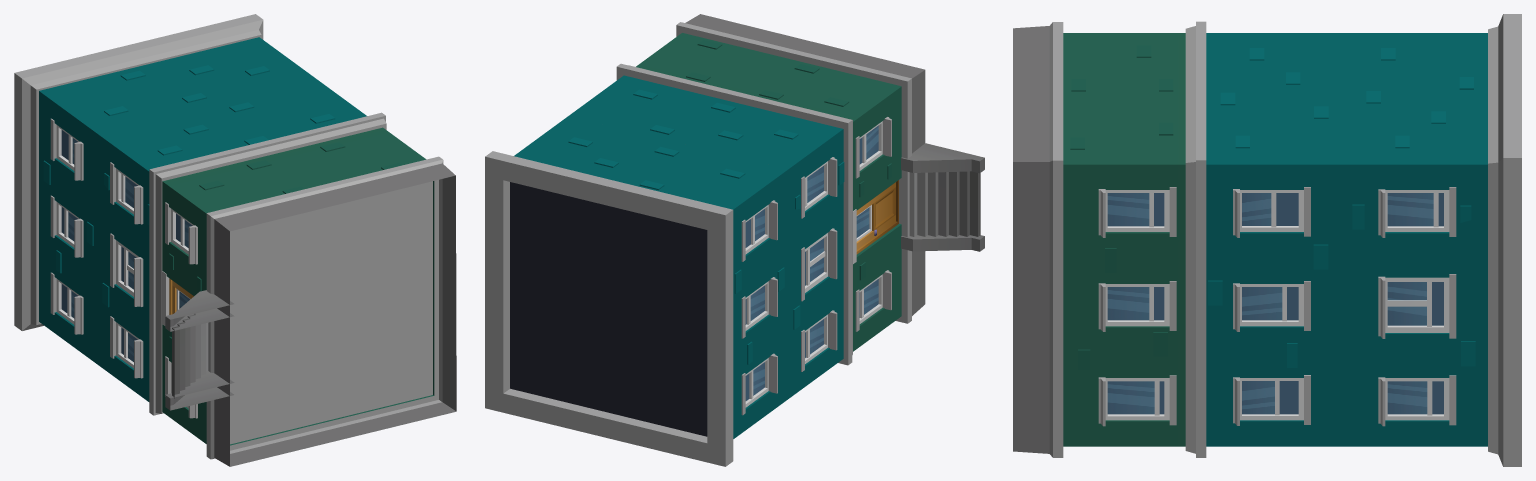
Rendered from Building_2_7_H.glb.
3 renders of one model, left to right at view 1: azimuth 30°, elevation 25°; view 2: azimuth 150°, elevation 25°; view 3: azimuth 270°, elevation 25°, orthographic. The views are drawn at different scales.
Visible parts, largest first — view 1: Building_2_7_H; view 2: Building_2_7_H; view 3: Building_2_7_H.
Part boxes in pixels (box(x1,y1,x2,y2)): Building_2_7_H: box(14, 14, 456, 466); Building_2_7_H: box(485, 14, 984, 466); Building_2_7_H: box(1013, 14, 1521, 466).
Size of the model in its own units: 7.54 by 6.2 by 9.26.
Materials: 3 (3 with a texture image).
